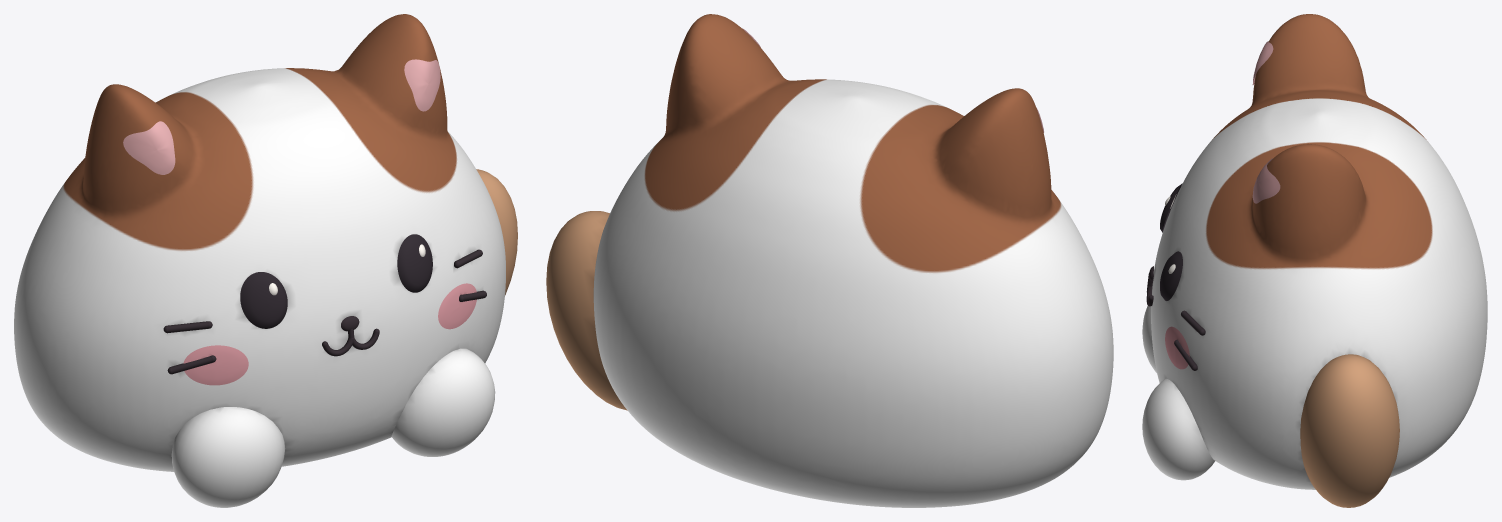
File: animal-cat.glb
The picture shows the model from 3 angles, left to right: view 1: azimuth 30°, elevation 25°; view 2: azimuth 150°, elevation 25°; view 3: azimuth 270°, elevation 25°; orthographic projection. The views are drawn at different scales.
Parts seen in each view (by area): view 1: cat Dough tint, cat Animal eyes, cat Animal detail, cat Animal blush, cat Animal ink, cat Animal accent; view 2: cat Dough tint, cat Animal accent; view 3: cat Dough tint, cat Animal accent, cat Animal eyes, cat Animal detail, cat Animal ink, cat Animal blush.
Boxes of the visible parts, <box> form: cat Dough tint: <box>14,14,505,507</box>; cat Animal eyes: <box>240,234,432,328</box>; cat Animal detail: <box>123,59,440,174</box>; cat Animal blush: <box>183,283,476,385</box>; cat Animal ink: <box>163,249,486,374</box>; cat Animal accent: <box>476,169,517,295</box>; cat Dough tint: <box>593,14,1113,507</box>; cat Animal accent: <box>546,211,627,410</box>; cat Dough tint: <box>1142,14,1487,489</box>; cat Animal accent: <box>1300,354,1399,507</box>; cat Animal eyes: <box>1160,183,1182,300</box>; cat Animal detail: <box>1252,41,1280,203</box>; cat Animal ink: <box>1146,266,1205,370</box>; cat Animal blush: <box>1165,326,1189,369</box>.
Size of the model in its own units: 1.35 by 0.975 by 0.8781.
7 materials, 1 textured.
